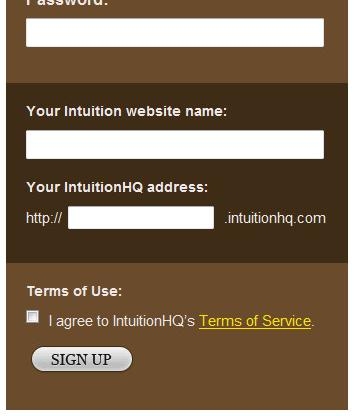button: (31, 346, 132, 372)
checkbox: (25, 309, 44, 324)
checkbox_with_label: (23, 307, 318, 329)
field: (23, 15, 325, 48), (23, 127, 325, 160), (66, 204, 215, 230)
field_with_label: (21, 104, 328, 162), (63, 203, 326, 231), (25, 202, 216, 232)
